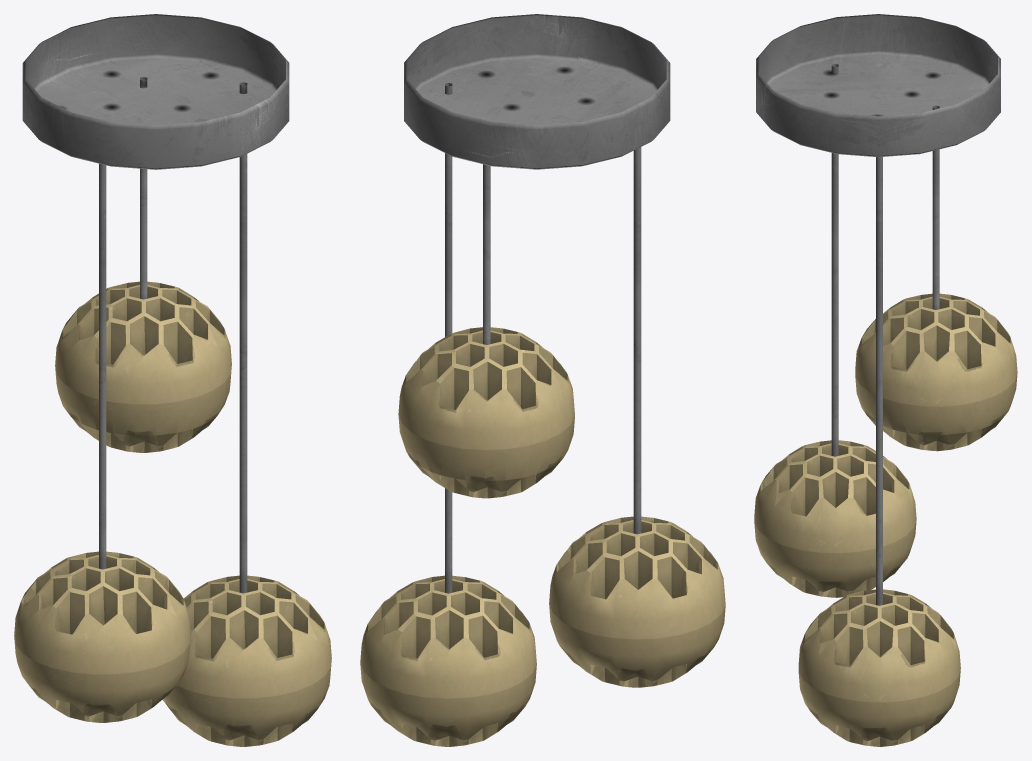
Rendered from Henging_Light_1.fbx.
3 renders of one model, left to right at view 1: azimuth 30°, elevation 25°; view 2: azimuth 150°, elevation 25°; view 3: azimuth 270°, elevation 25°, orthographic. The views are drawn at different scales.
Parts seen in each view (by area): view 1: MATEL_ROUND, light2, light1, light3; view 2: MATEL_ROUND, light2, light1, light3; view 3: MATEL_ROUND, light1, light2, light3.
Boxes of the visible parts, x1,y1,x2,y2 form: MATEL_ROUND: (22,14,289,169); light2: (14,163,190,722); light1: (163,82,331,746); light3: (55,77,231,452); MATEL_ROUND: (404,14,670,169); light2: (549,147,725,687); light1: (360,83,536,746); light3: (398,164,574,498); MATEL_ROUND: (756,14,1000,157); light1: (798,157,960,746); light2: (754,64,916,597); light3: (855,105,1017,451).
Bounding box in the file's own units: 66.64 × 138 × 51.96.
Materials: 1 (1 with a texture image).
